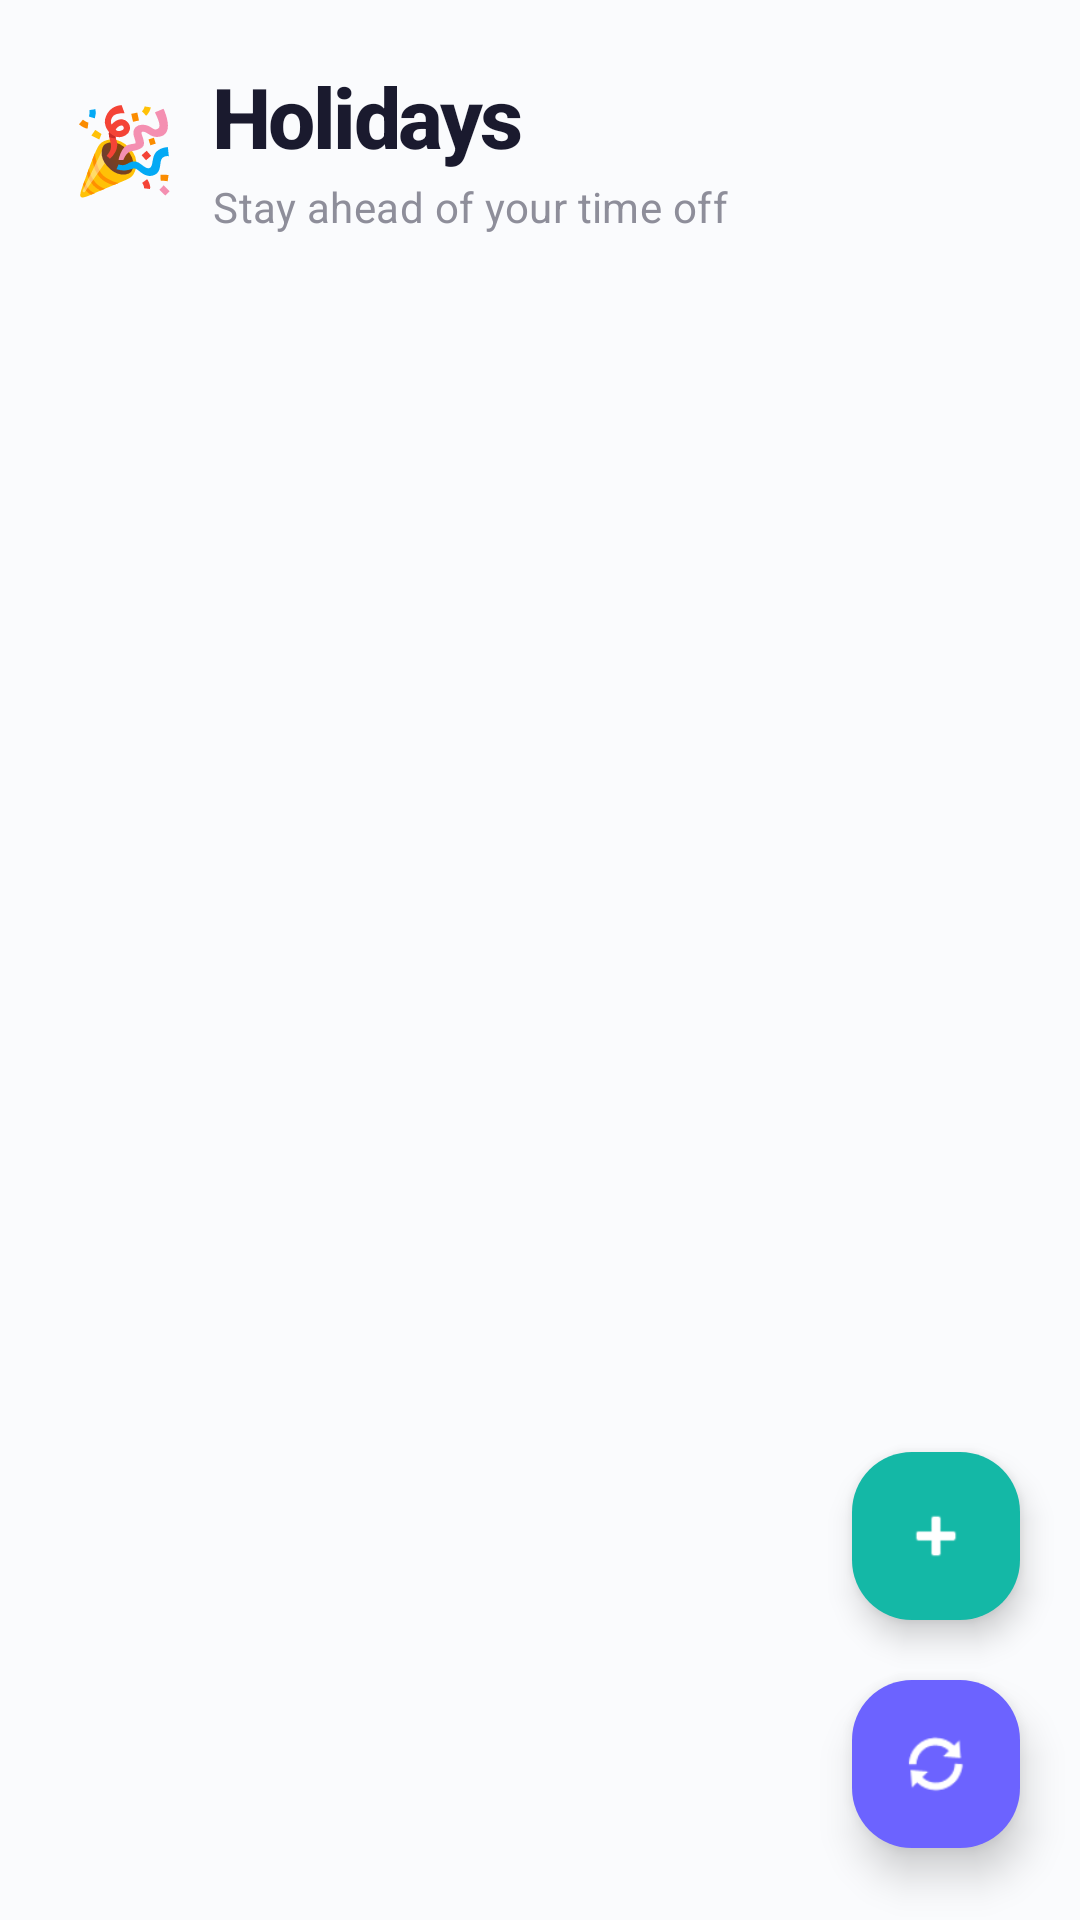

Icon click points for this 1080px×1920px phone screenshot, format (x,y):
Add Holiday: (936,1536)
Sync Holidays: (936,1764)
